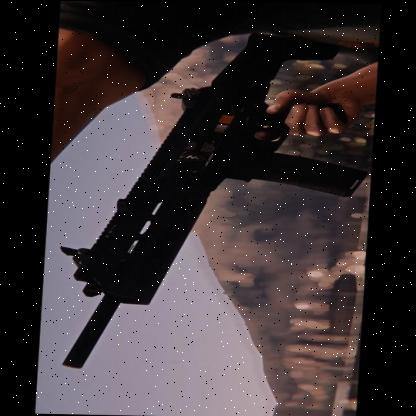rifle: (47, 26, 373, 376)
